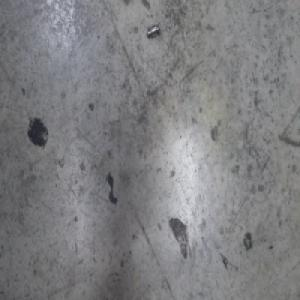Bolt: (146, 21, 161, 40)
